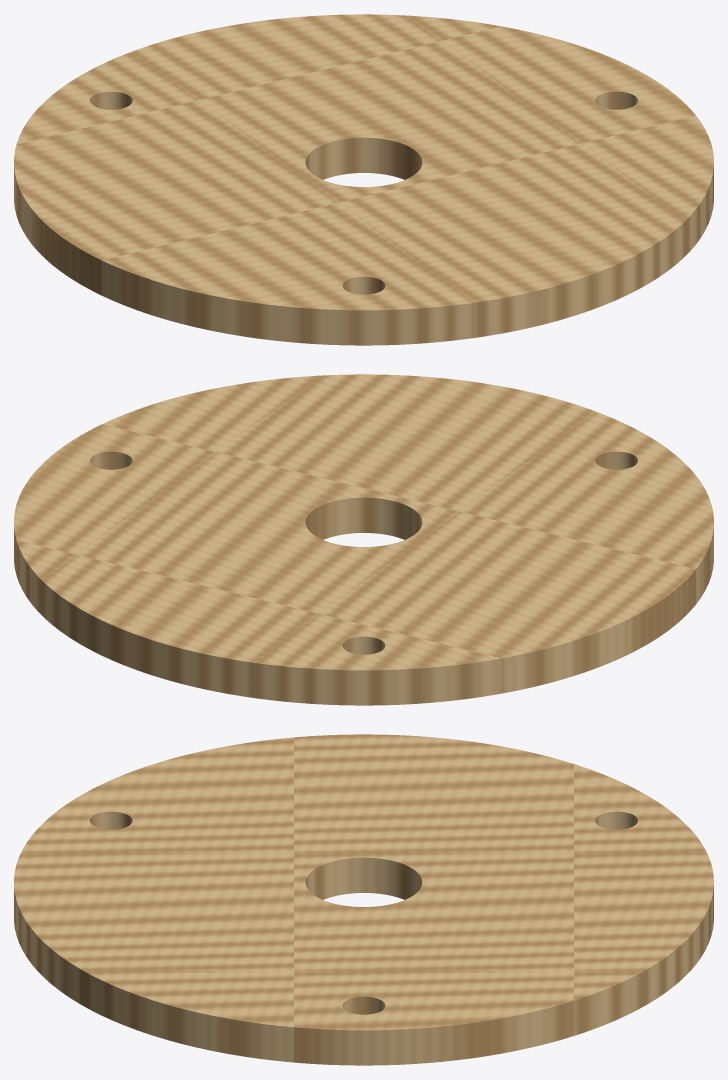
Rendered from carrier.glb.
3 views of the same model, one above another, from view 1: azimuth 30°, elevation 25°; view 2: azimuth 150°, elevation 25°; view 3: azimuth 270°, elevation 25° (orthographic).
Size of the model in its own units: 7.2e-05 by 4e-06 by 7.2e-05.
1 material, 1 textured.
